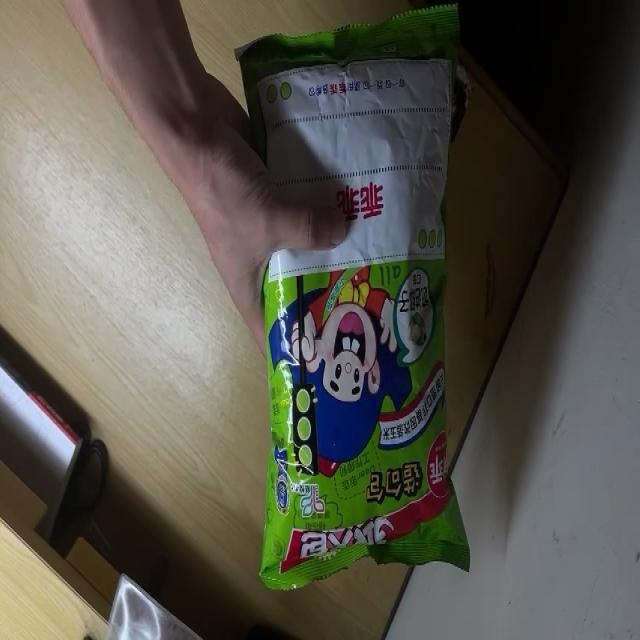Good-Luck: (235, 0, 473, 594)
